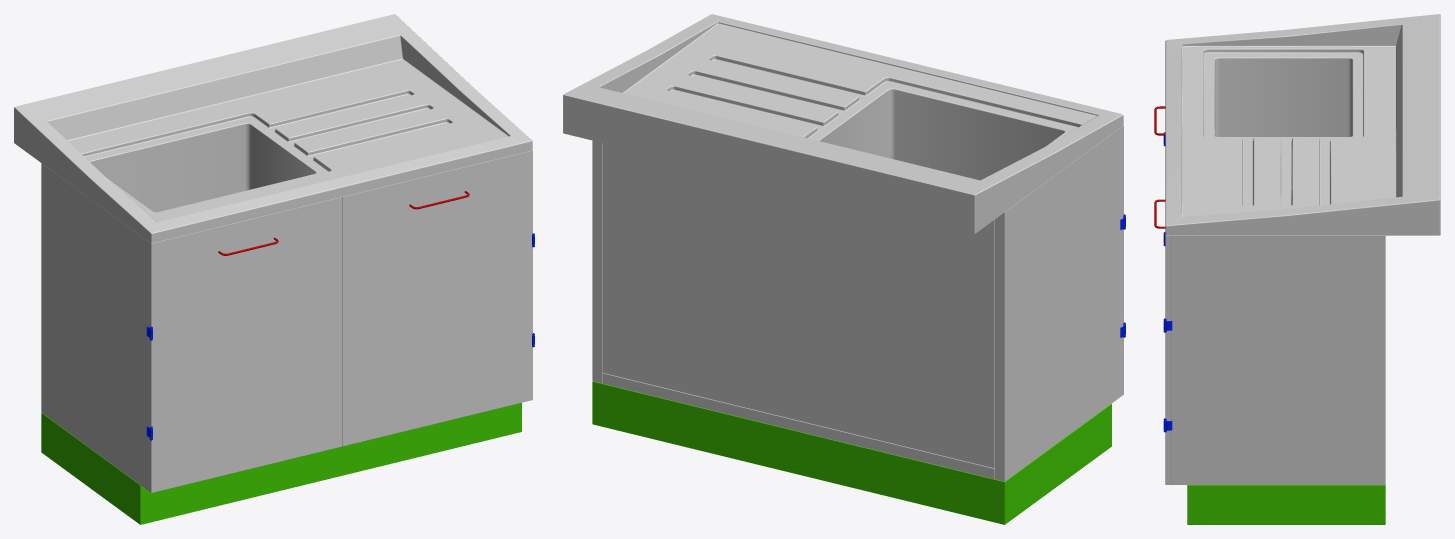
The model's file is SinkBench01b.fbx.
3 renders of one model, left to right at view 1: azimuth 30°, elevation 25°; view 2: azimuth 150°, elevation 25°; view 3: azimuth 270°, elevation 25°, orthographic. The views are drawn at different scales.
Visible parts, largest first — view 1: Sink, Drawer01, Drawer02, SinkBench01b; view 2: SinkBench01b, Sink, Drawer01; view 3: SinkBench01b, Sink, Drawer02.
Part boxes in pixels (x1,y1,x2,y2): Sink: [14, 14, 532, 243]; Drawer01: [148, 197, 341, 492]; Drawer02: [342, 150, 532, 446]; SinkBench01b: [41, 163, 534, 524]; SinkBench01b: [592, 127, 1125, 524]; Sink: [563, 14, 1123, 233]; Drawer01: [1121, 125, 1123, 396]; SinkBench01b: [1163, 132, 1385, 524]; Sink: [1165, 14, 1440, 235]; Drawer02: [1154, 199, 1170, 484].
Size of the model in its own units: 101 by 65 by 81.53.
